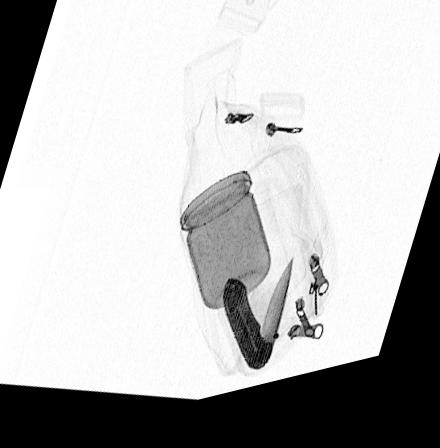Knife: (220, 267, 294, 385)
